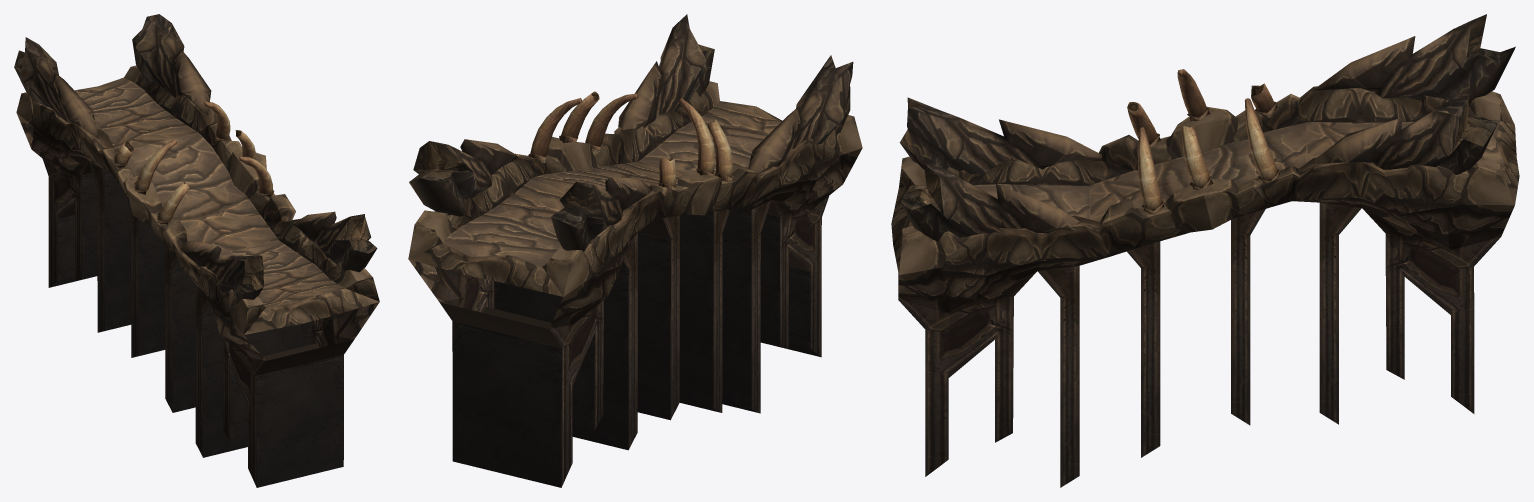
Rendered from D_gaodiqiao.fbx.
3 renders of one model, left to right at view 1: azimuth 30°, elevation 25°; view 2: azimuth 150°, elevation 25°; view 3: azimuth 270°, elevation 25°, orthographic. The views are drawn at different scales.
Visible parts, largest first — view 1: D_gaodiqiao; view 2: D_gaodiqiao; view 3: D_gaodiqiao.
Boxes of the visible parts, left/top/right/bottom form: D_gaodiqiao: left=14, top=14, right=379, bottom=487; D_gaodiqiao: left=408, top=14, right=862, bottom=487; D_gaodiqiao: left=891, top=14, right=1519, bottom=487.
Bounding box in the file's own units: 601 × 1108 × 1559.
